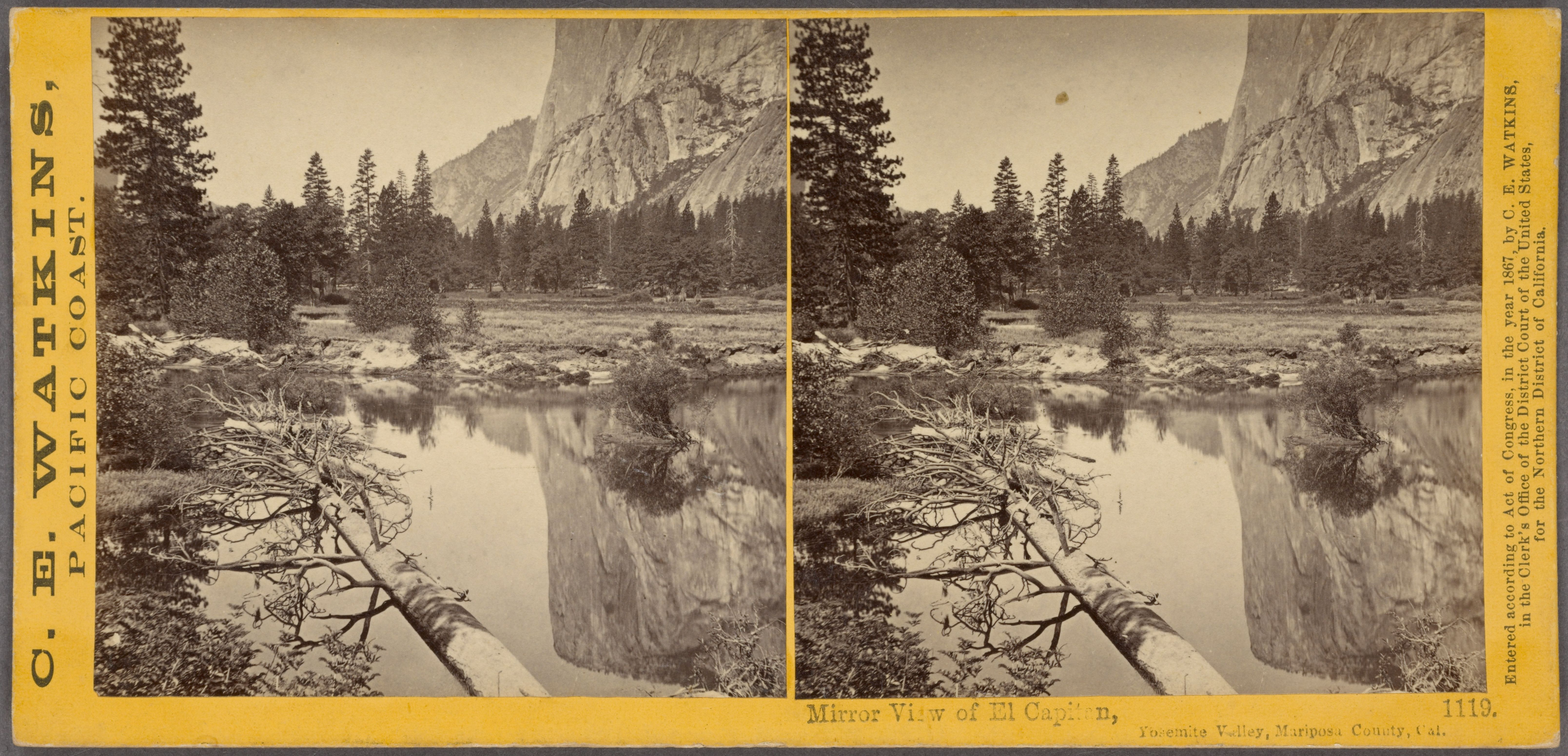half_image: (788, 14, 1487, 698), (91, 17, 787, 697)
